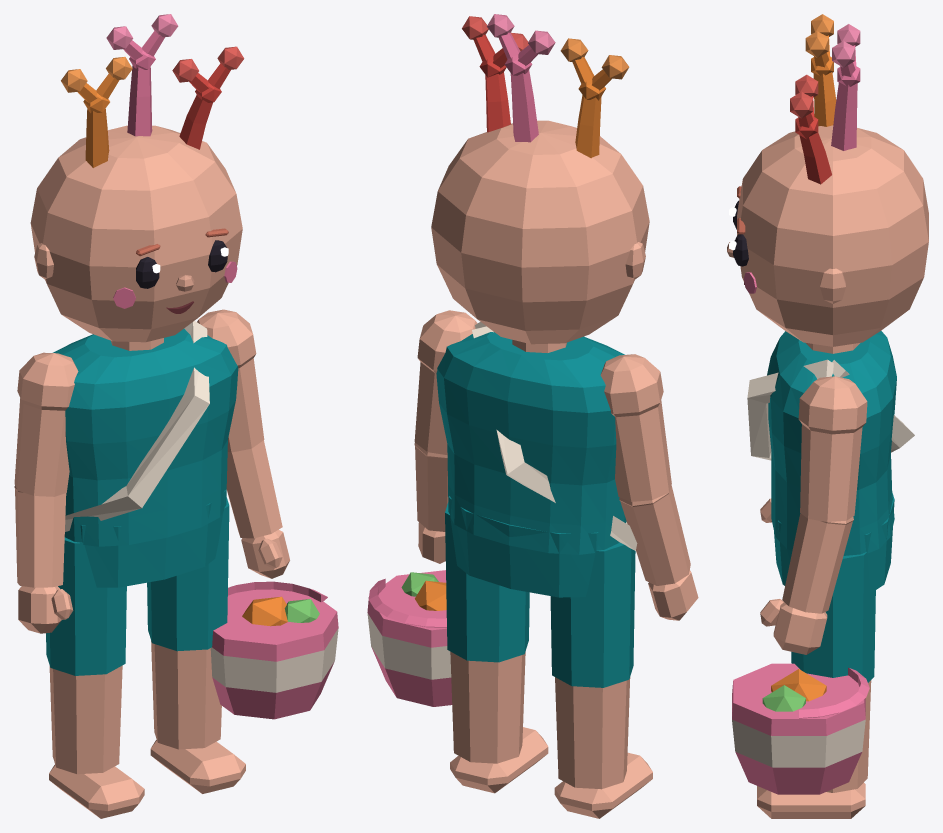
File: cor-k2.glb
The picture shows the model from 3 angles, left to right: view 1: azimuth 30°, elevation 25°; view 2: azimuth 150°, elevation 25°; view 3: azimuth 270°, elevation 25°; orthographic projection. The views are drawn at different scales.
Parts seen in each view (by area): view 1: kopf, torso, gegenstand_basket, bein_r, bein_l, arm_r, korallenaufsatz, arm_l, becken, schärpe, schuh_r, schuh_l (+3 smaller); view 2: kopf, torso, bein_r, bein_l, arm_r, gegenstand_basket, korallenaufsatz, becken, arm_l, schuh_l, schuh_r, schärpe (+2 smaller); view 3: kopf, gegenstand_basket, torso, arm_l, korallenaufsatz, bein_l, schärpe, schuh_l, hand_l, becken, gesicht.
Boxes of the visible parts, box(x1,y1,x2,y2) form: kopf: box(30, 125, 242, 342); torso: box(53, 328, 238, 546); gegenstand_basket: box(210, 581, 338, 719); bein_r: box(46, 537, 126, 774); bein_l: box(147, 496, 229, 749); arm_r: box(14, 352, 78, 587); korallenaufsatz: box(61, 14, 244, 167); arm_l: box(197, 309, 282, 538); becken: box(80, 490, 225, 587); schärpe: box(65, 321, 209, 531); schuh_r: box(49, 764, 144, 818); schuh_l: box(150, 740, 245, 793); kopf: box(431, 120, 649, 344); torso: box(436, 332, 626, 554); bein_r: box(550, 542, 635, 789); bein_l: box(445, 502, 529, 763); arm_r: box(600, 354, 690, 585); gegenstand_basket: box(367, 570, 452, 706); korallenaufsatz: box(462, 14, 629, 158); becken: box(449, 496, 599, 597); arm_l: box(414, 310, 477, 531); schuh_l: box(450, 727, 548, 793); schuh_r: box(554, 752, 652, 818); schärpe: box(472, 322, 637, 550); kopf: box(737, 125, 928, 346); gegenstand_basket: box(732, 663, 869, 794); torso: box(767, 331, 896, 555); arm_l: box(782, 376, 867, 613); korallenaufsatz: box(790, 14, 860, 184); bein_l: box(791, 552, 875, 792); schärpe: box(747, 359, 914, 460); schuh_l: box(757, 782, 865, 818); hand_l: box(760, 599, 827, 654); becken: box(774, 493, 894, 593); gesicht: box(727, 186, 756, 293).
Bounding box in the file's own units: 0.011 × 0.026 × 0.00627.
